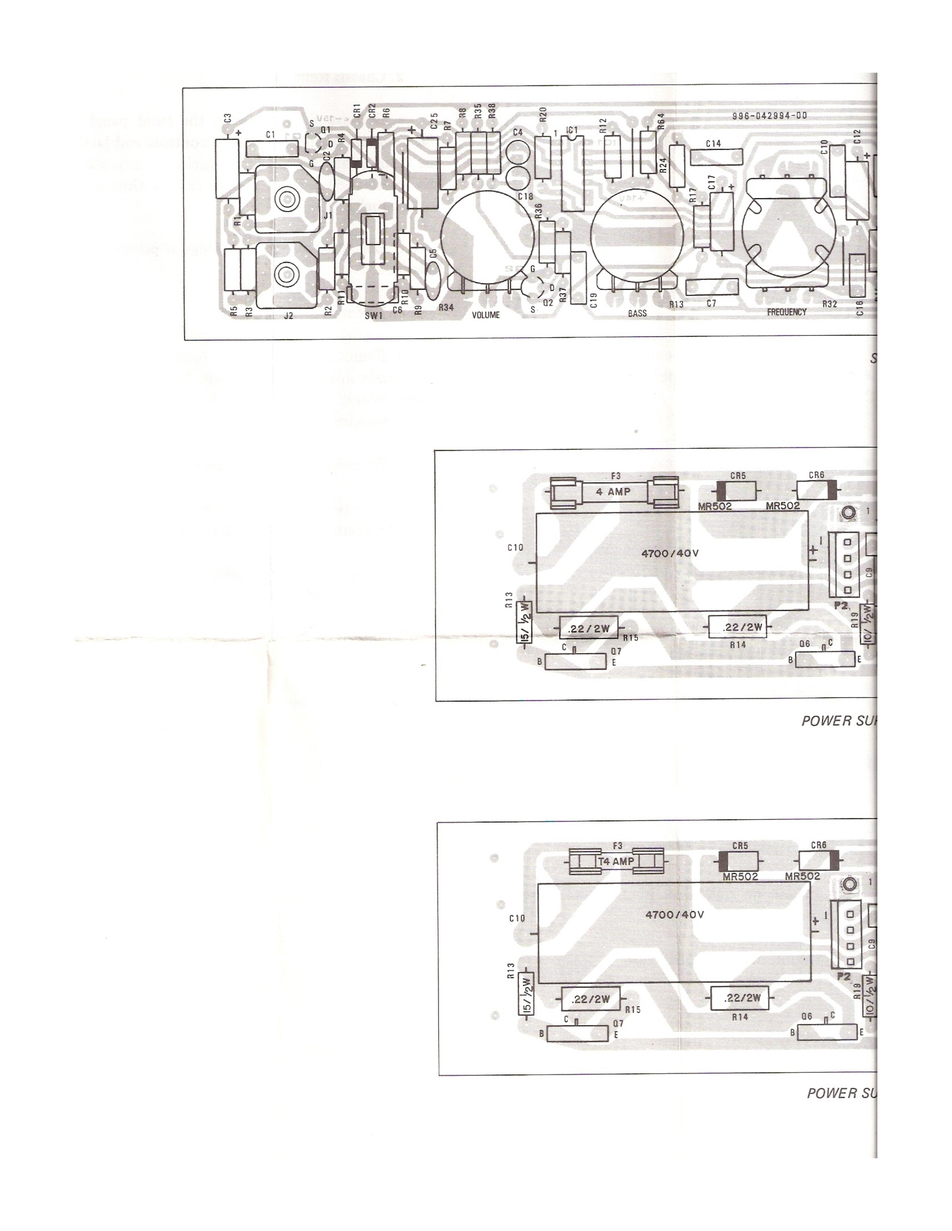C1: (265, 130, 276, 139)
C10: (506, 543, 524, 553), (508, 913, 526, 923), (820, 139, 828, 156)
C12: (853, 128, 861, 144)
C14: (705, 139, 721, 147)
C16: (855, 300, 864, 318)
C17: (707, 174, 716, 190)
C18: (517, 192, 534, 201)
C19: (589, 292, 597, 309)
C2: (322, 151, 331, 161)
C25: (429, 113, 438, 130)
C3: (223, 113, 232, 124)
C4: (512, 128, 523, 137)
C5: (428, 248, 437, 258)
C6: (392, 305, 403, 314)
C7: (706, 298, 717, 308)
C9: (866, 937, 877, 950), (864, 567, 874, 579)
CR1: (352, 103, 362, 119)
CR2: (367, 103, 377, 118)
CR5: (729, 470, 747, 480), (731, 840, 749, 850)
CR6: (810, 840, 829, 850), (809, 469, 826, 479)
F33: (613, 841, 623, 851), (611, 472, 622, 480)
IC1: (565, 125, 578, 134)
J1: (323, 211, 332, 220)
J2: (283, 312, 294, 320)
MR502: (785, 872, 822, 883), (722, 872, 759, 882), (765, 501, 801, 511), (697, 502, 733, 512)
Q1: (320, 125, 331, 135)
Q2: (543, 298, 555, 307)
Q6: (797, 639, 811, 649), (801, 1011, 814, 1021)
Q7: (610, 646, 623, 656), (613, 1019, 625, 1028)
R1: (232, 216, 241, 226)
R10: (400, 289, 409, 304)
R11: (337, 290, 346, 306)
R12: (598, 118, 608, 134)
R13: (506, 961, 516, 980), (504, 590, 514, 608), (668, 300, 684, 309)
R14: (728, 640, 747, 649), (732, 1012, 749, 1022)
R15: (622, 632, 641, 643), (625, 1005, 641, 1014)
R17: (688, 186, 697, 203)
R19: (849, 611, 859, 628), (853, 982, 861, 1000)
R2: (324, 305, 332, 317)
R20: (539, 107, 547, 123)
R24: (659, 157, 667, 174)
R3: (244, 306, 253, 318)
R32: (822, 299, 838, 309)
R34: (438, 303, 455, 312)
R35: (473, 103, 482, 120)
R36: (534, 203, 543, 219)
R37: (557, 286, 567, 303)
R38: (487, 103, 496, 119)
R5: (229, 305, 238, 317)
R6: (382, 107, 390, 118)
R64: (657, 112, 665, 131)
R7: (442, 121, 452, 132)
R8: (458, 107, 467, 118)
R9: (414, 305, 422, 316)
SW1: (364, 311, 384, 320)
